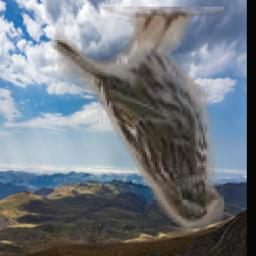Sparrow: (49, 8, 224, 234)
